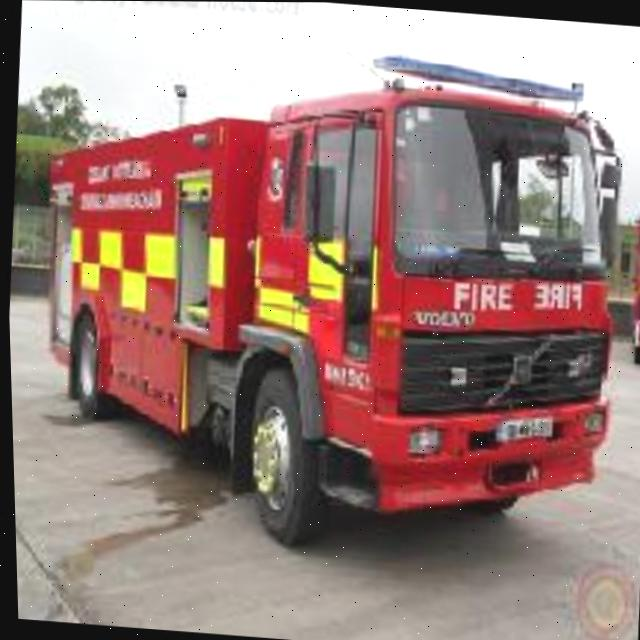emergency: (11, 78, 640, 553)
